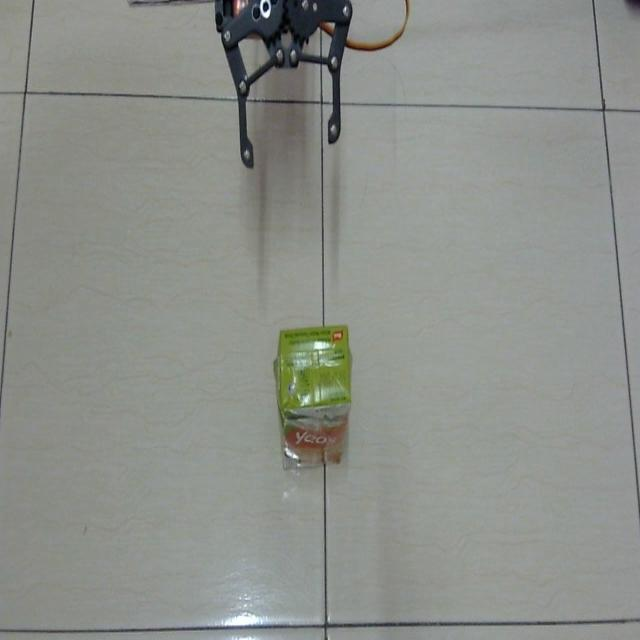Plastic-stand-rotation: (260, 315, 360, 476)
